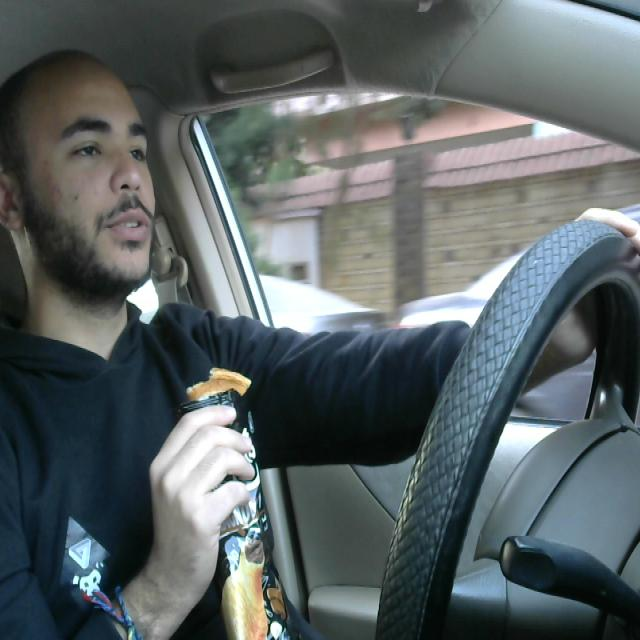eating: (184, 357, 290, 640)
